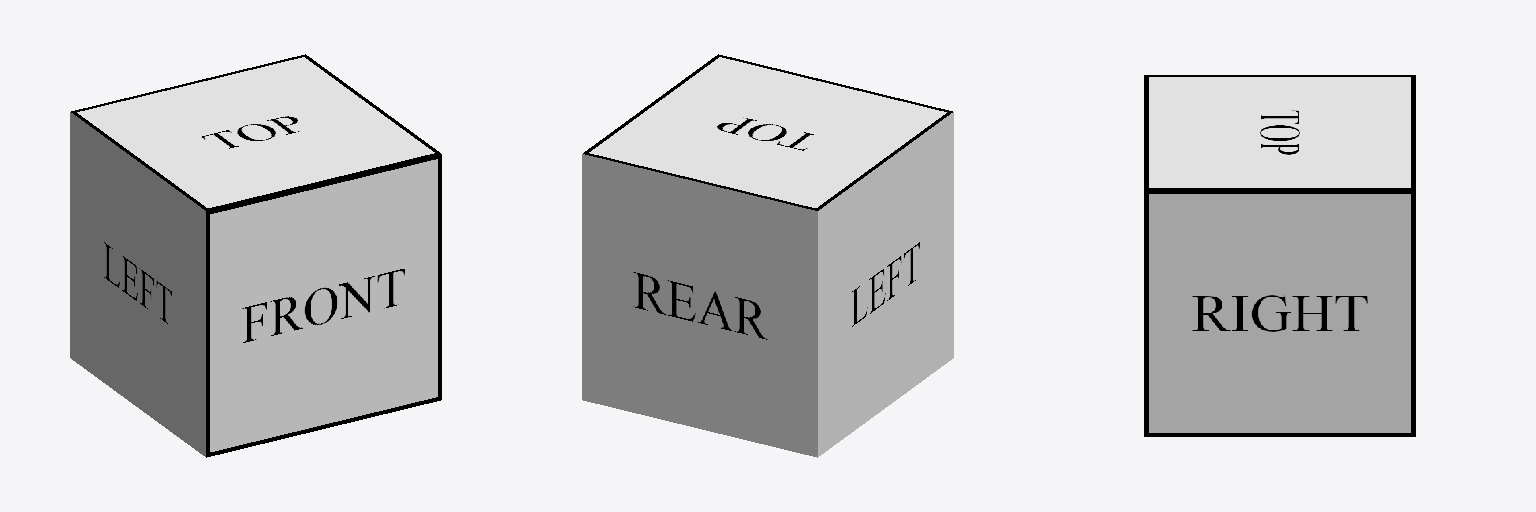
3 views of the same model, side by side, from view 1: azimuth 30°, elevation 25°; view 2: azimuth 150°, elevation 25°; view 3: azimuth 270°, elevation 25° (orthographic).
Visible parts, largest first — view 1: Cube; view 2: Cube; view 3: Cube.
Part boxes in pixels (x1,y1,x2,y2): Cube: (70, 54, 441, 457); Cube: (582, 54, 953, 457); Cube: (1144, 75, 1415, 436).
Bounding box in the file's own units: 2 × 2 × 2.
Materials: 6 (6 with a texture image).